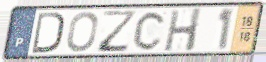1: (216, 7, 235, 52)
C: (131, 10, 168, 52)
D: (31, 10, 66, 55)
H: (162, 7, 204, 53)
O: (65, 10, 100, 54)
Z: (96, 9, 138, 54)
